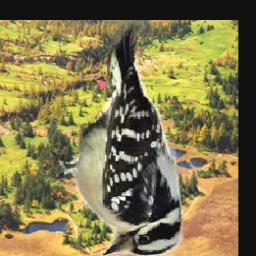Woodpecker: (38, 24, 186, 256)
